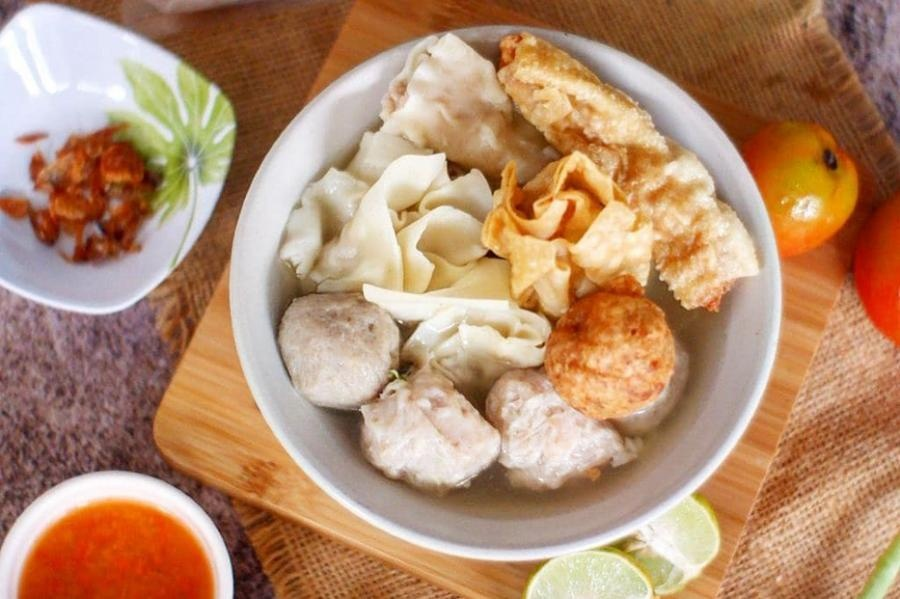bakso_malang: (273, 31, 762, 498)
